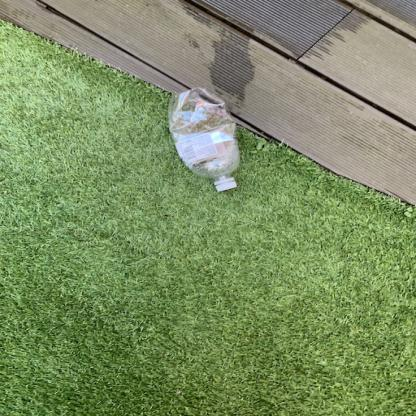trash: (159, 82, 243, 192)
